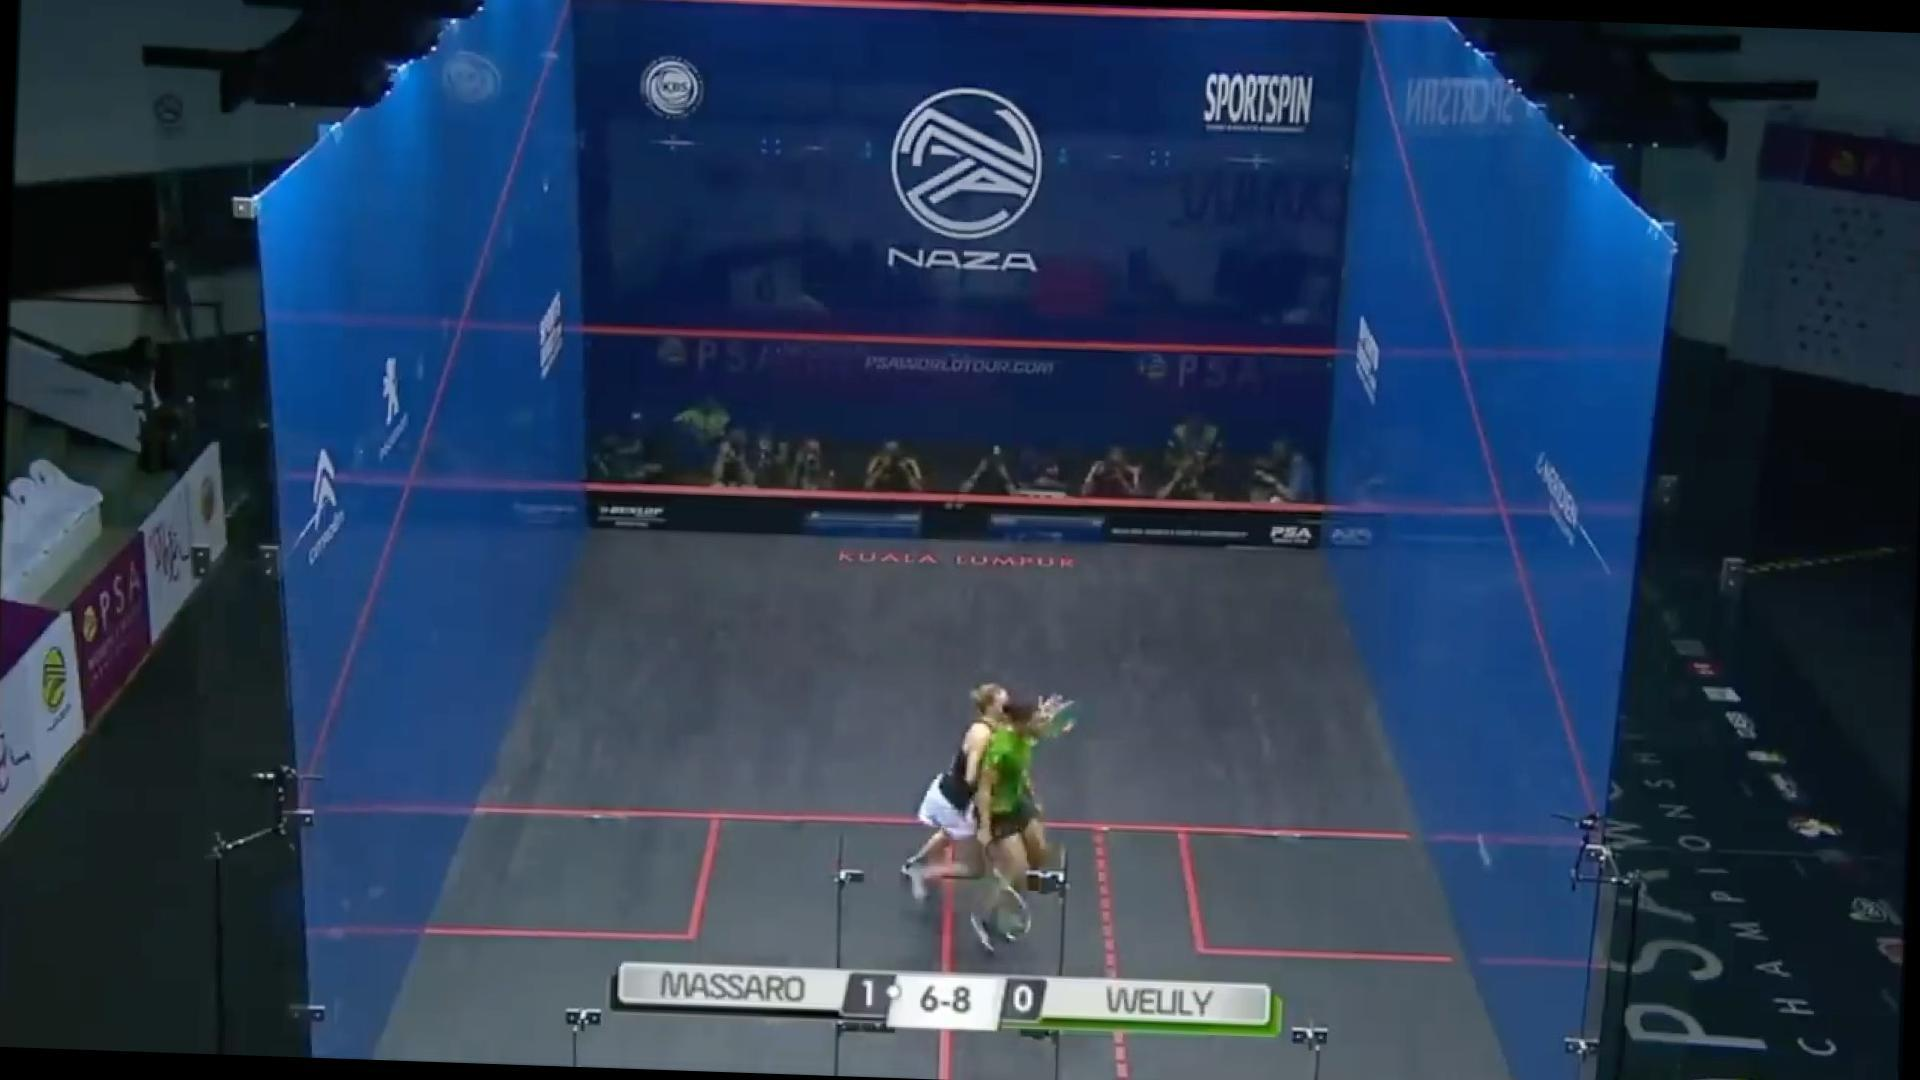Squash-Ball: (1456, 818, 1510, 890)
